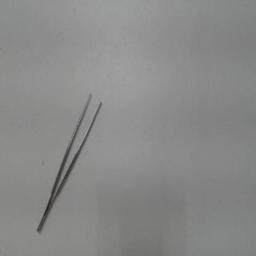Gillies Toothed Dissector: (35, 84, 113, 240)
